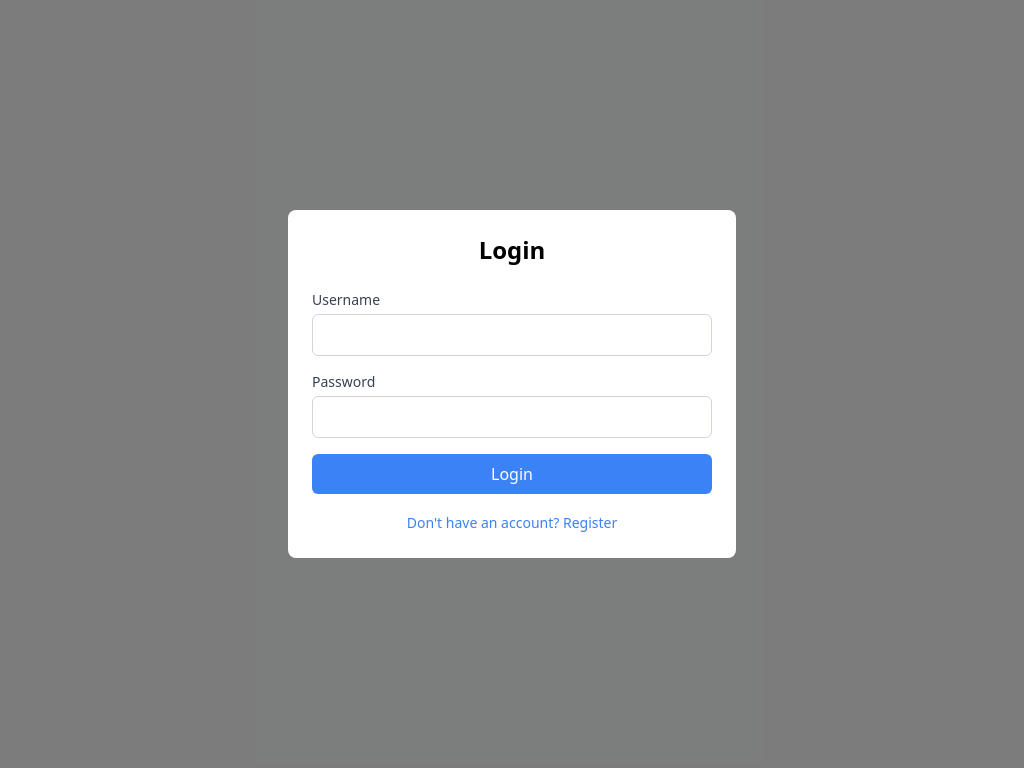
Scenario: AuthModal › switches to register form
Click the button "Don't have an account? Register" at (512,523), box [407, 513, 617, 533]
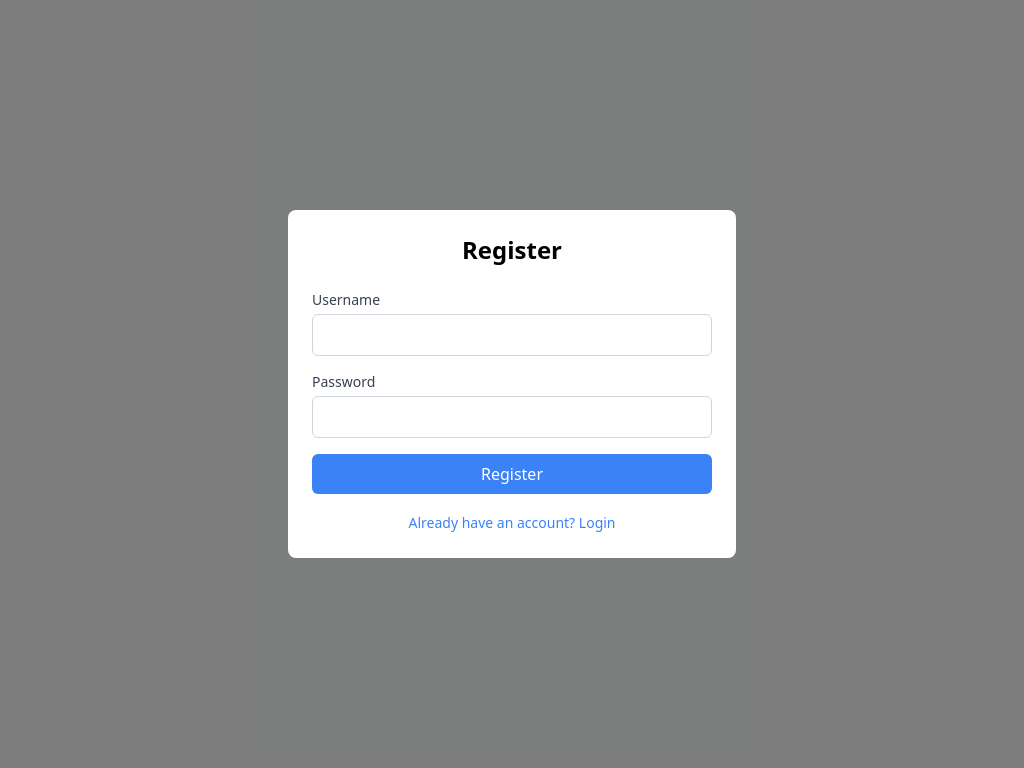
Check: the heading "Register" is shown, box [462, 233, 562, 266]
Check: the button "Register" is shown, box [312, 454, 712, 494]
